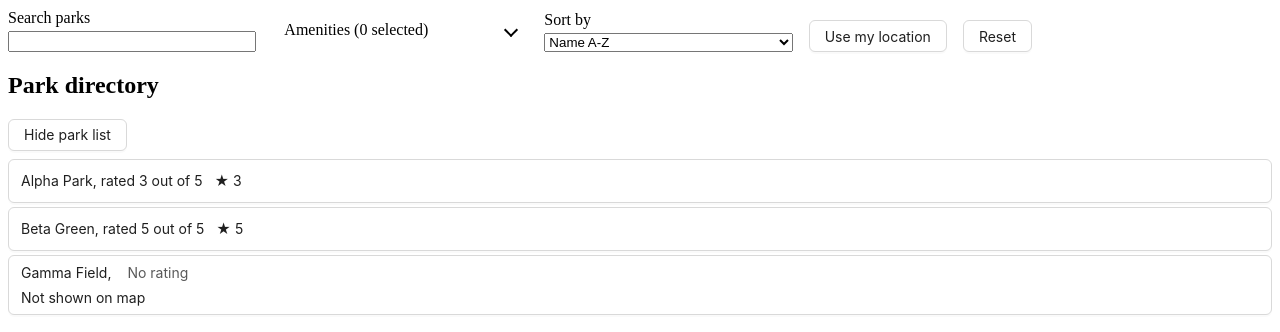
Scenario: SearchBar › shows and announces the empty state
The image size is (1280, 332).
Type "zzz" into the search field labelled "Search parks" at x=132, y=42, box 8,31 -> 256,52
Wait 600 ms
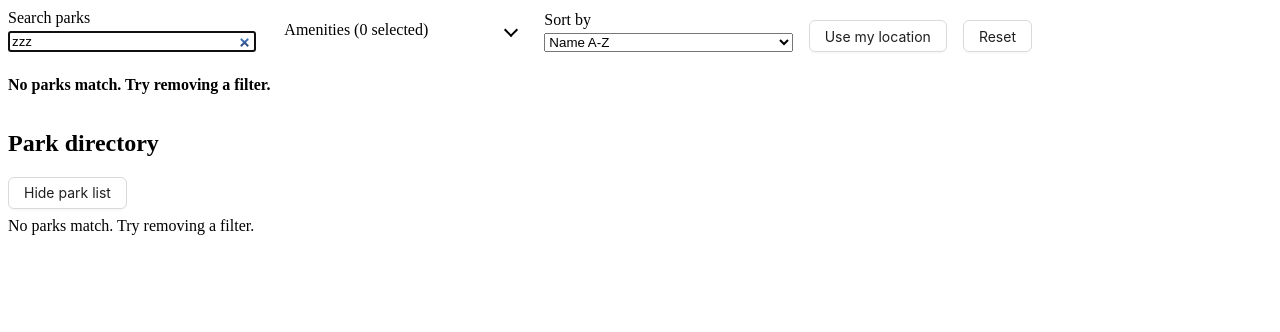
Now the message reads "No parks match. Try removing a filter.", box 8,217 -> 254,234
Now the text "No parks match. Try removing a filter." is shown 2 times, box 8,76 -> 270,93; 8,217 -> 254,234
